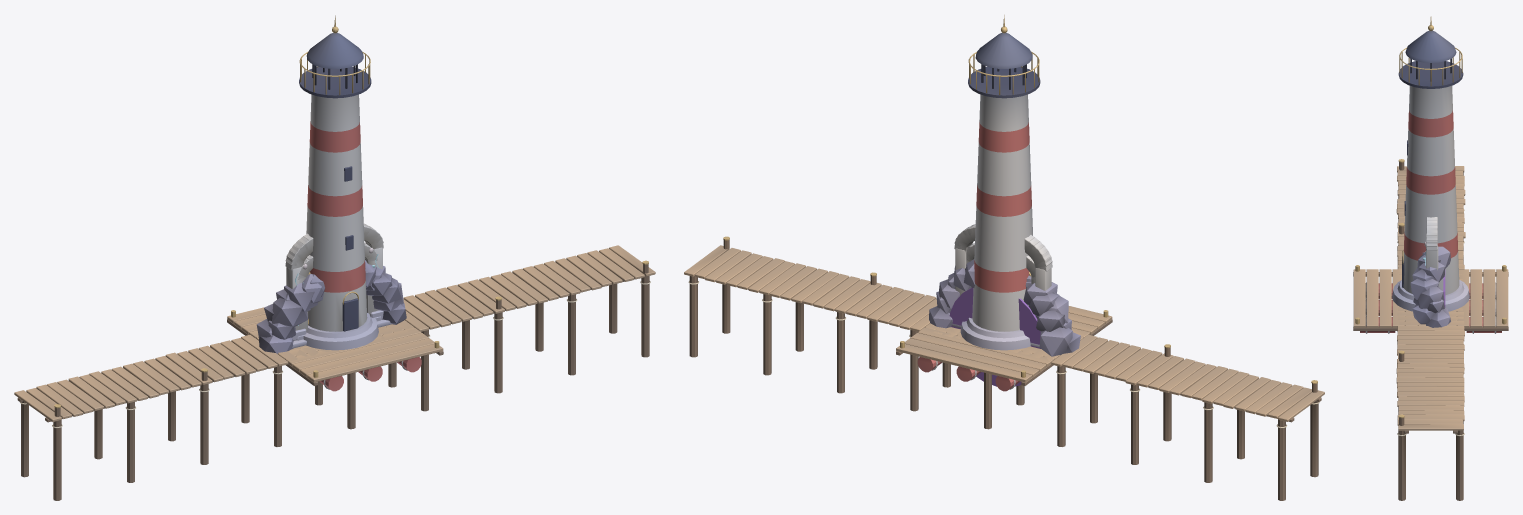
File: coast_props.glb
3 views of the same model, side by side, from view 1: azimuth 30°, elevation 25°; view 2: azimuth 150°, elevation 25°; view 3: azimuth 270°, elevation 25° (orthographic). The views are drawn at different scales.
Parts seen in each view (by area): view 1: pier, lighthouse, pontoon, grotto, coast_gate, portal_arch; view 2: pier, lighthouse, pontoon, grotto, coast_gate; view 3: lighthouse, pier, pontoon, grotto, coast_gate.
Boxes of the visible parts, x1,y1,x2,y2 form: pier: (14, 245, 655, 500); lighthouse: (299, 15, 378, 350); pontoon: (227, 307, 443, 391); grotto: (256, 260, 406, 353); coast_gate: (285, 223, 392, 348); portal_arch: (297, 243, 380, 340); pier: (684, 236, 1324, 500); lighthouse: (960, 15, 1040, 350); pontoon: (896, 306, 1112, 391); grotto: (929, 259, 1080, 386); coast_gate: (952, 224, 1052, 347); lighthouse: (1392, 16, 1469, 311); pier: (1396, 159, 1465, 500); pontoon: (1353, 265, 1508, 333); grotto: (1410, 246, 1450, 327); coast_gate: (1425, 217, 1438, 270).
Bounding box in the file's own units: 28 × 17.75 × 7.
